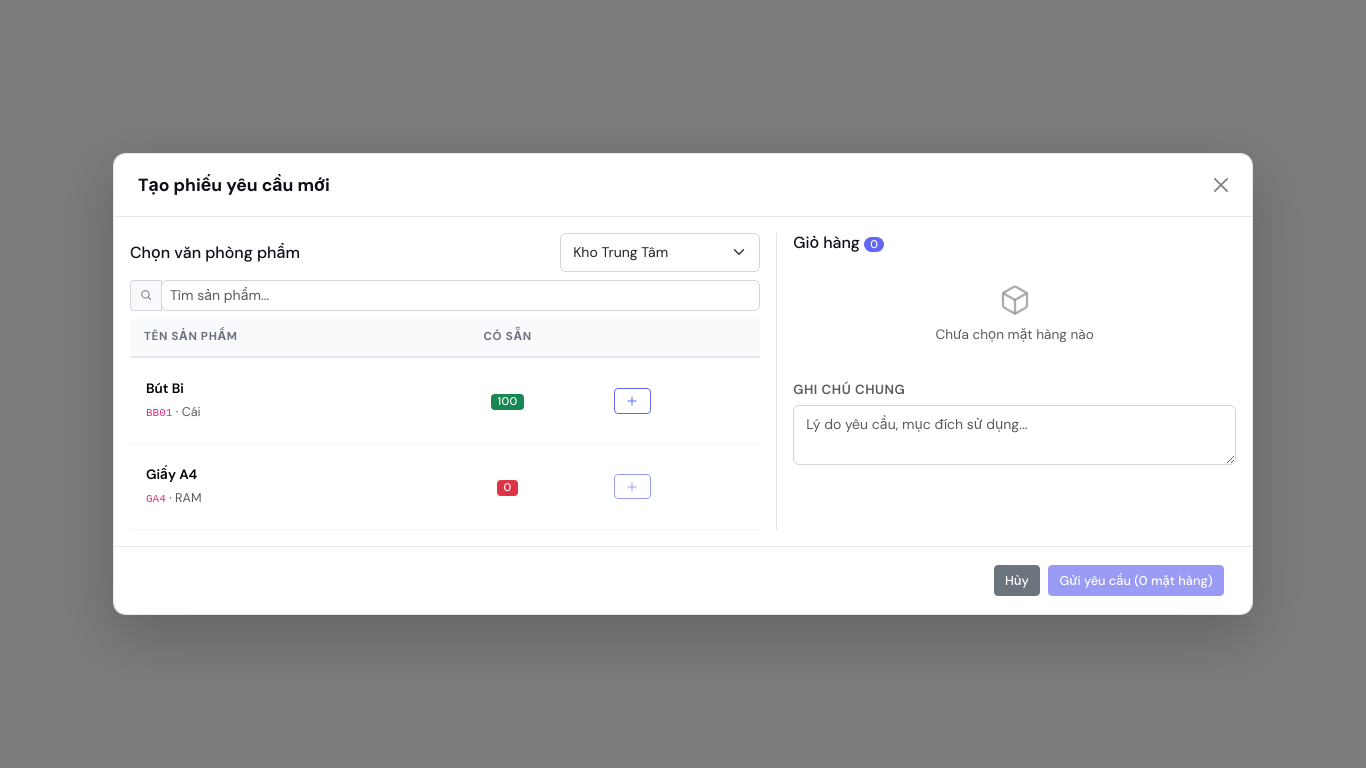
Test: RequisitionCreateModal Component › removes item from cart
Check: the text "Bút Bi" is shown, box [146,380,184,397]
Check: the dropdown shows "Kho Trung Tâm", box [560,233,760,272]
What coordinates should you click on to do the following:
click the button titled "Thêm vào giỏ"
I would click on:
 (632, 401)
Its box is [614,388,650,414].
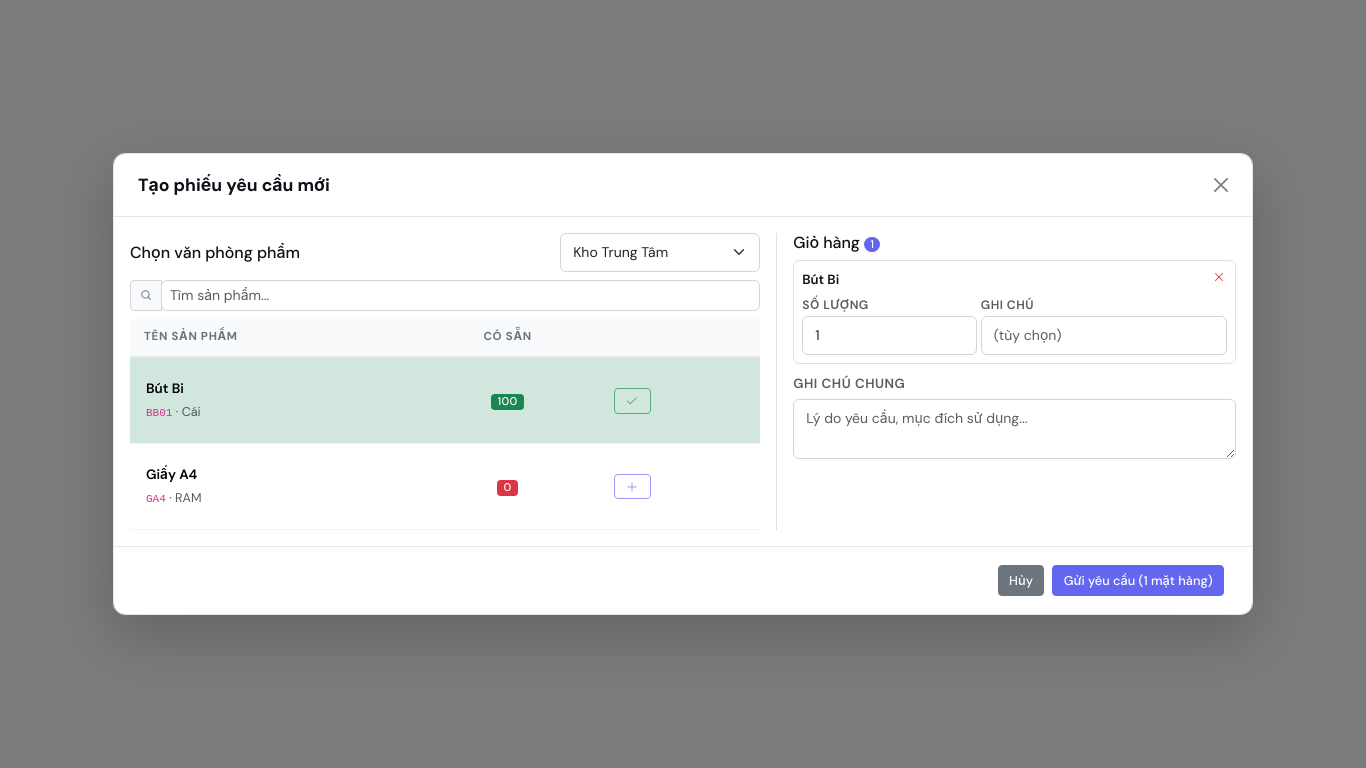
What coordinates should you click on to do the following:
click the 2nd button
I would click on:
 (1219, 277)
Its box is [1211,269,1227,285].
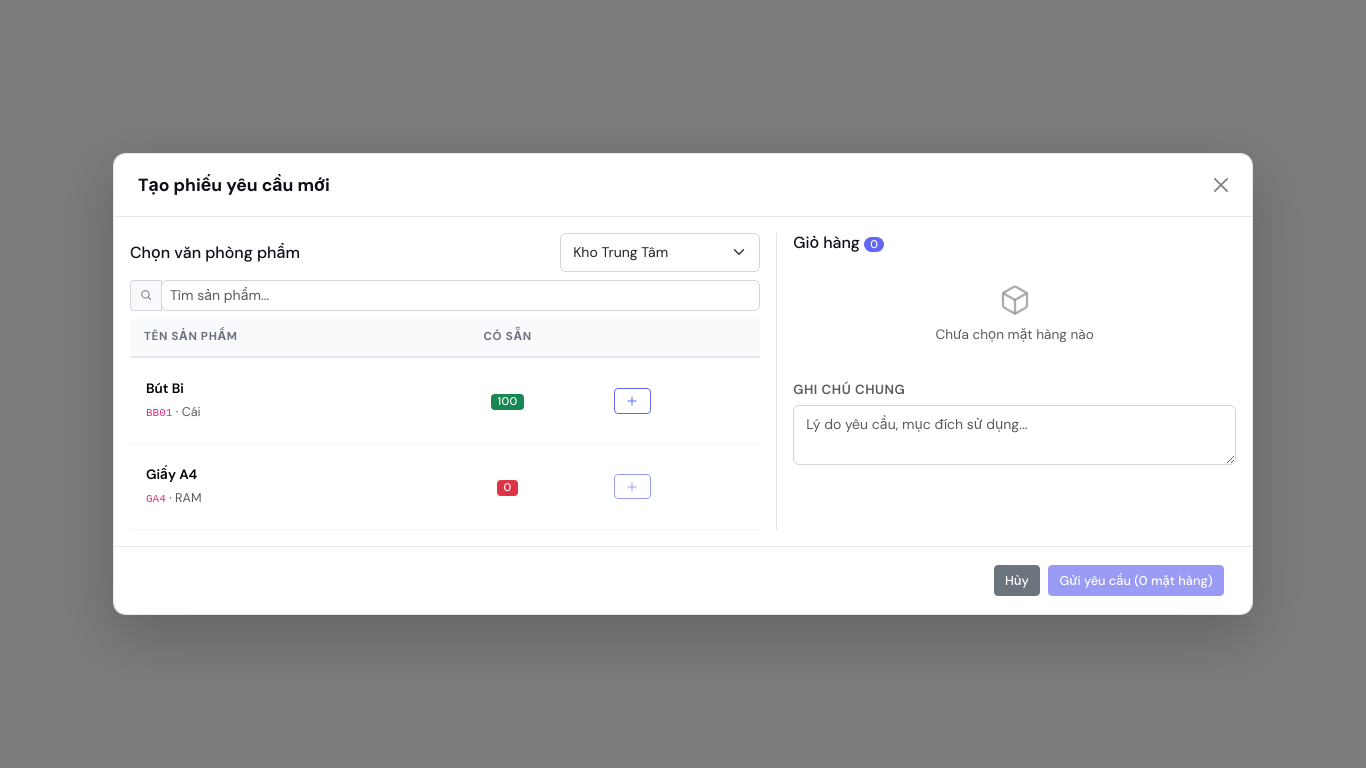
Check: the text "Chưa chọn mặt hàng nào" is shown, box [935,284,1094,343]
